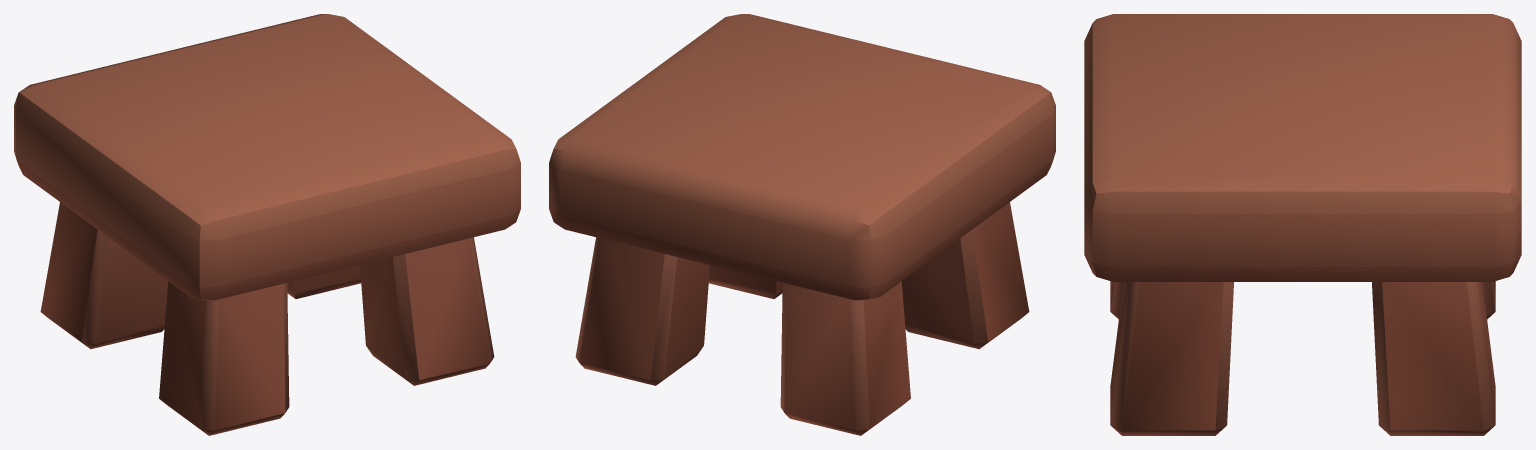
Rendered from kay-banqueta-madeira.gltf.
3 renders of one model, left to right at view 1: azimuth 30°, elevation 25°; view 2: azimuth 150°, elevation 25°; view 3: azimuth 270°, elevation 25°, orthographic. The views are drawn at different scales.
Parts seen in each view (by area): view 1: chair_stool_wood; view 2: chair_stool_wood; view 3: chair_stool_wood.
Boxes of the visible parts, x1,y1,x2,y2 form: chair_stool_wood: (14, 14, 520, 435); chair_stool_wood: (549, 14, 1055, 435); chair_stool_wood: (1084, 14, 1521, 435).
Bounding box in the file's own units: 0.4875 × 0.325 × 0.4875.
Materials: 1 (1 with a texture image).
